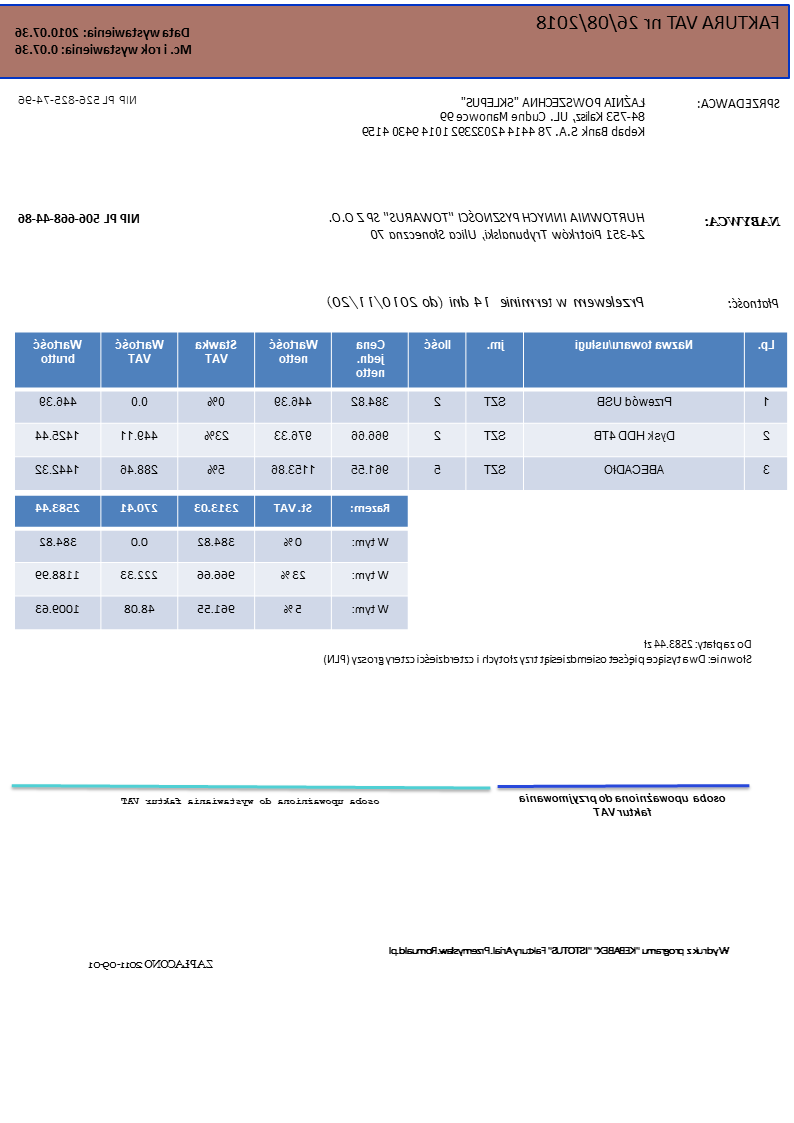Table: (13, 330, 789, 492), (13, 494, 410, 631)
TextBox: (321, 635, 754, 668), (359, 92, 648, 139), (327, 208, 648, 242), (11, 24, 195, 58), (515, 792, 727, 819), (534, 12, 782, 35), (386, 943, 733, 958), (324, 294, 646, 310), (118, 794, 383, 808), (15, 210, 143, 227), (85, 956, 216, 972), (15, 92, 139, 108), (695, 94, 783, 110), (701, 213, 783, 229), (727, 295, 782, 310)
